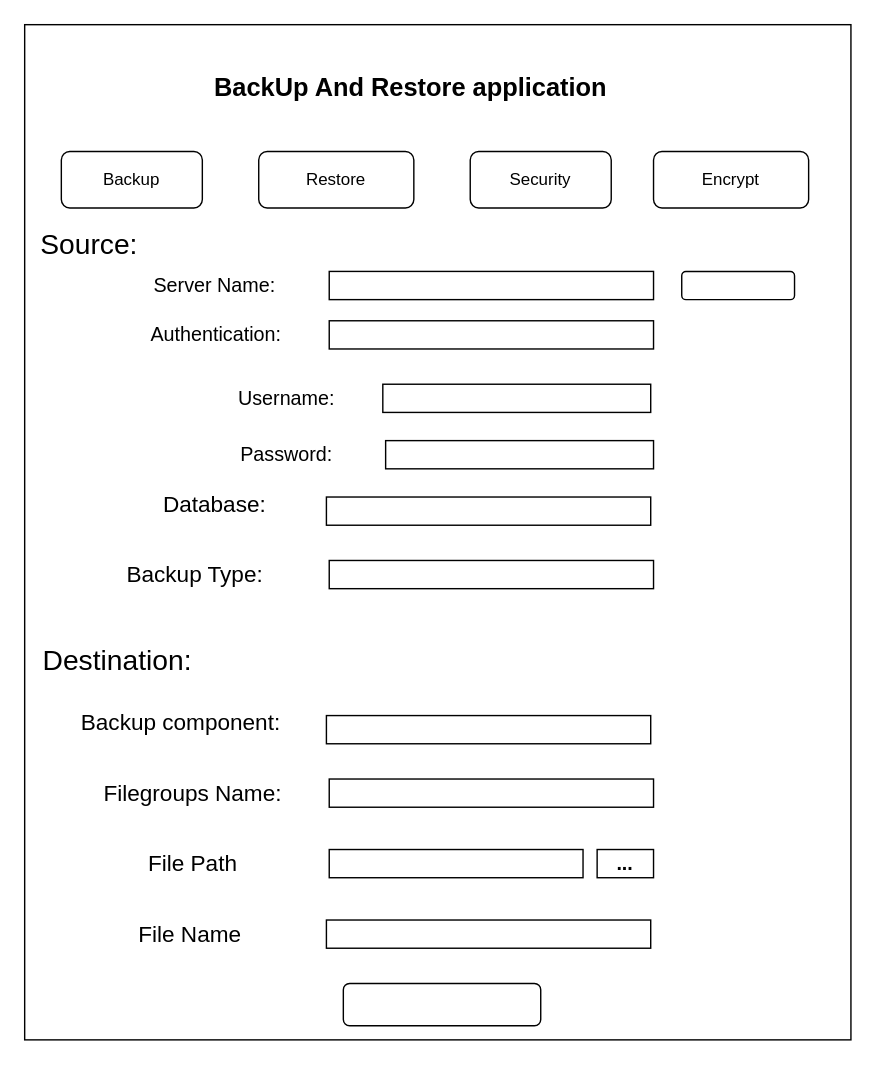
This 876x1065 diagram has some shape labels left out. The box of each missing label's shape, as (x1, y1, x2, y2) in pixels:
Back up: (342, 982, 541, 1026)
connect: (680, 270, 795, 300)
